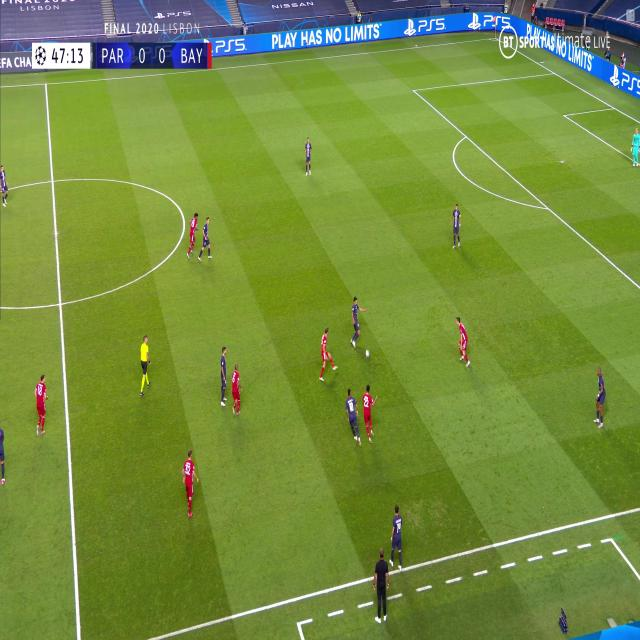ball: (365, 349, 370, 359)
player: (372, 548, 390, 626), (182, 450, 198, 519), (318, 328, 337, 382), (389, 506, 404, 574), (592, 367, 607, 430), (454, 317, 472, 367), (34, 374, 48, 438), (361, 386, 377, 442), (345, 390, 361, 444), (139, 334, 152, 397), (218, 345, 230, 407), (349, 296, 363, 348), (229, 364, 243, 416), (185, 213, 200, 260), (199, 217, 213, 262), (451, 203, 462, 250), (0, 423, 7, 488), (0, 164, 10, 208), (630, 126, 640, 168), (304, 137, 312, 177), (207, 40, 213, 71)
